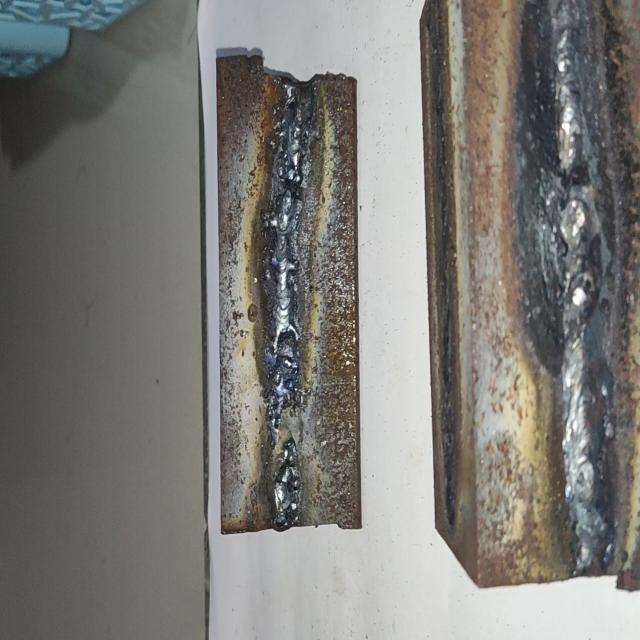Defect: (542, 154, 604, 248), (260, 356, 305, 478), (272, 152, 308, 210)
Welding Line: (553, 17, 617, 564), (274, 82, 304, 530)
Workpiece: (419, 7, 640, 589), (218, 56, 361, 532)
